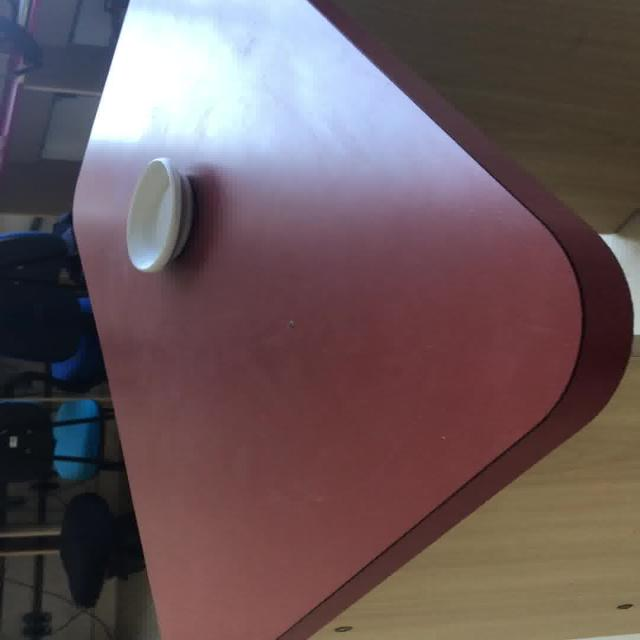plate: (124, 156, 194, 273)
